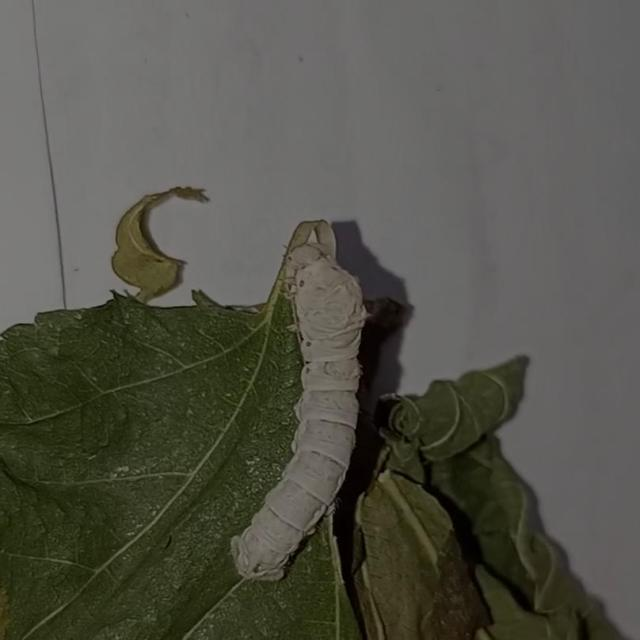Healthy: (220, 231, 390, 593)
